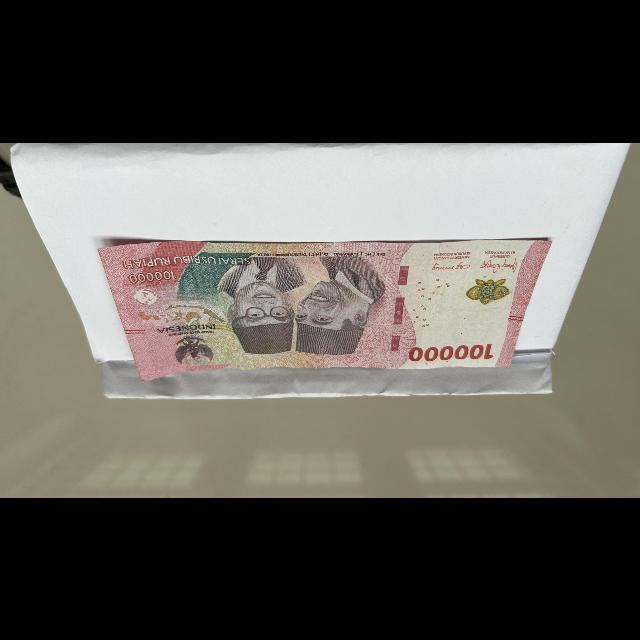Palsu-100k: (92, 219, 562, 385)
Tinta-Palsu-100k: (463, 275, 517, 306)
